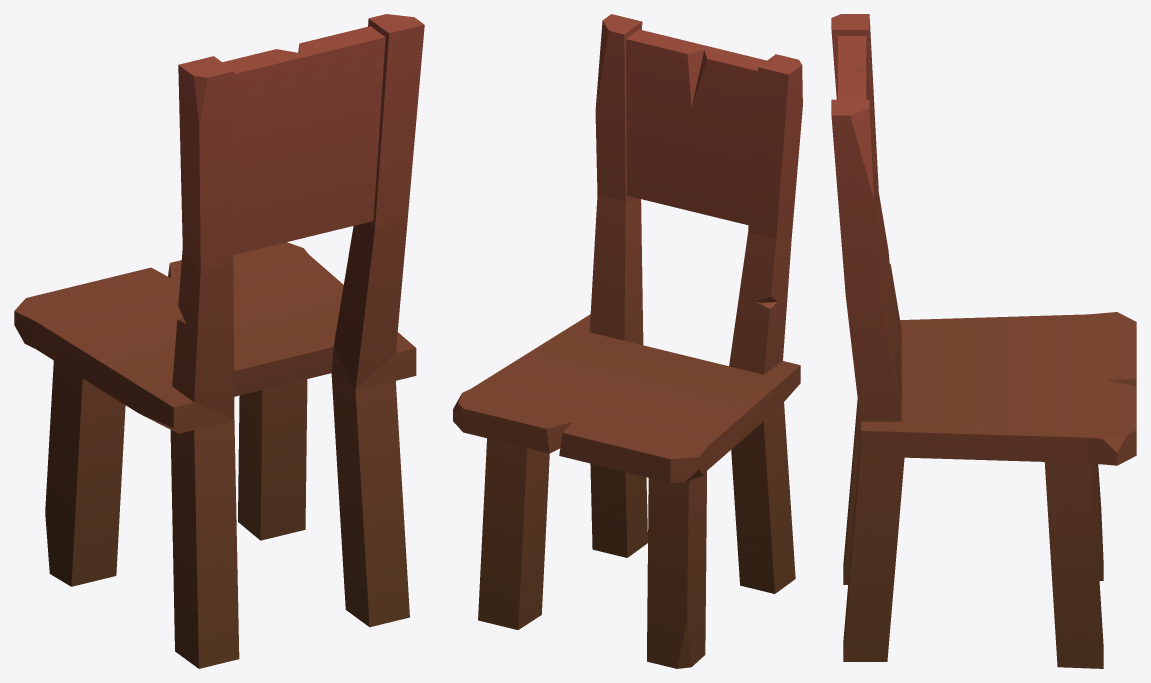
The model's file is Stool_Old.fbx.
3 views of the same model, side by side, from view 1: azimuth 30°, elevation 25°; view 2: azimuth 150°, elevation 25°; view 3: azimuth 270°, elevation 25° (orthographic). The views are drawn at different scales.
Visible parts, largest first — view 1: Stool_Old; view 2: Stool_Old; view 3: Stool_Old.
Part boxes in pixels (box(x1,y1,x2,y2)): Stool_Old: box(14, 14, 424, 668); Stool_Old: box(453, 14, 802, 668); Stool_Old: box(831, 14, 1136, 668).
Bounding box in the file's own units: 0.5885 × 1.18 × 0.5917.
